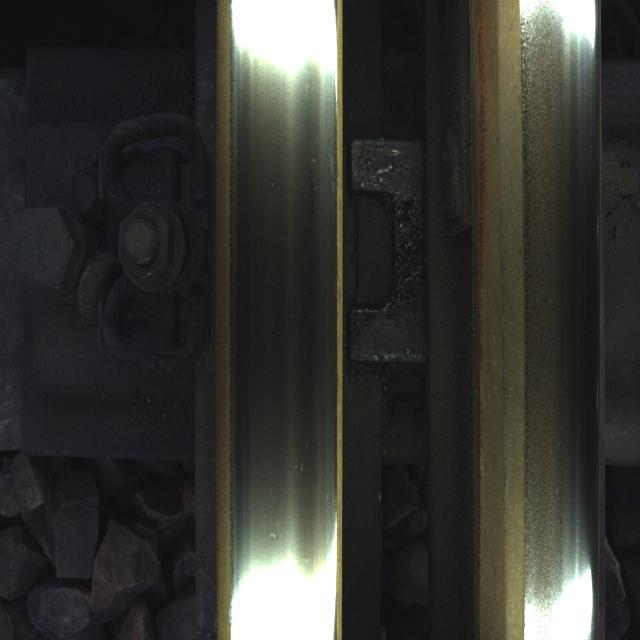break: (235, 54, 335, 552)
